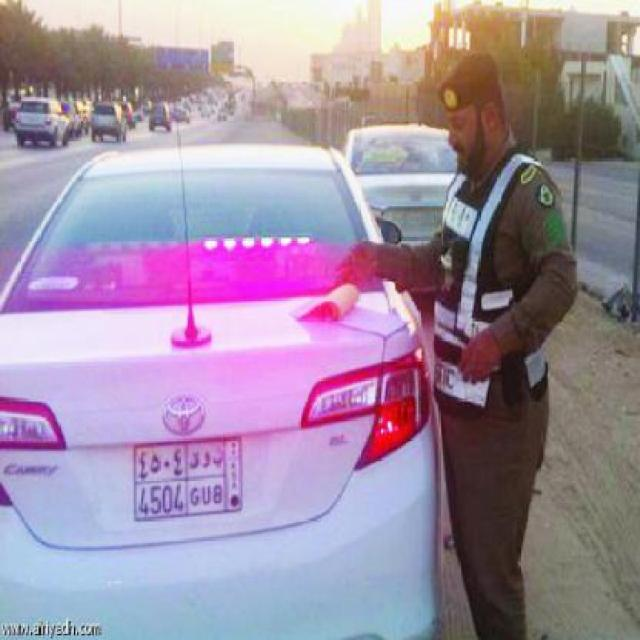license_plate: (129, 434, 245, 521)
